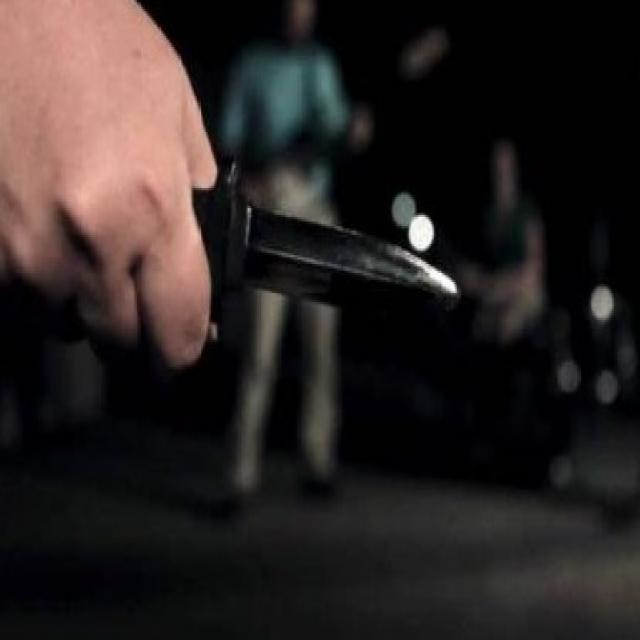knife: (206, 154, 464, 322)
